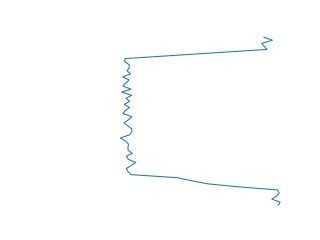distributaryChannelFill: (119, 35, 285, 206)
